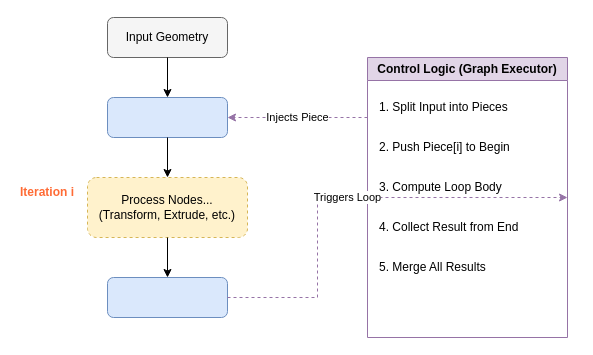
Some shapes in this 593 by 355 pixel diagram are drawn without their labels. Here are the shapes that lost their labels. From the top down, the centre of each, then its label:
At point 167,117: "ForEach Begin".
At point 167,297: "ForEach End".
